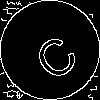C: (25, 25, 82, 84)
